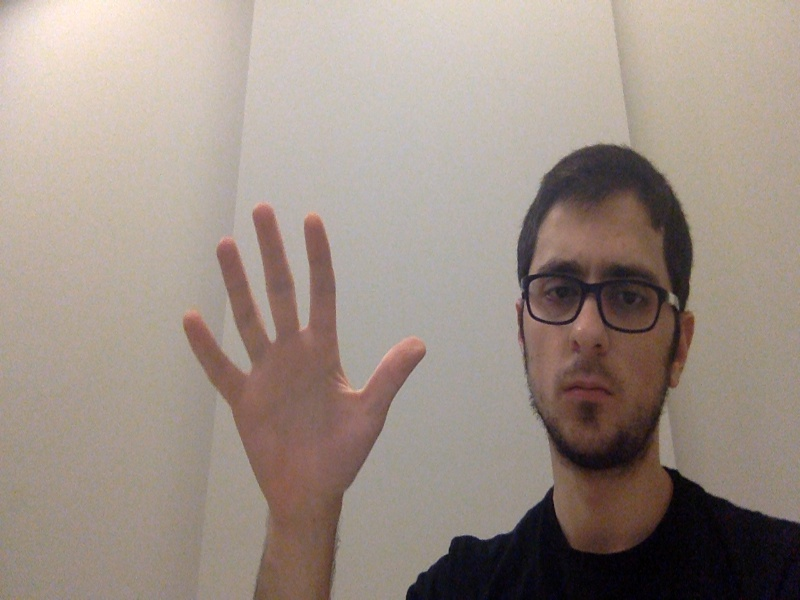5-hand: (183, 203, 429, 510)
